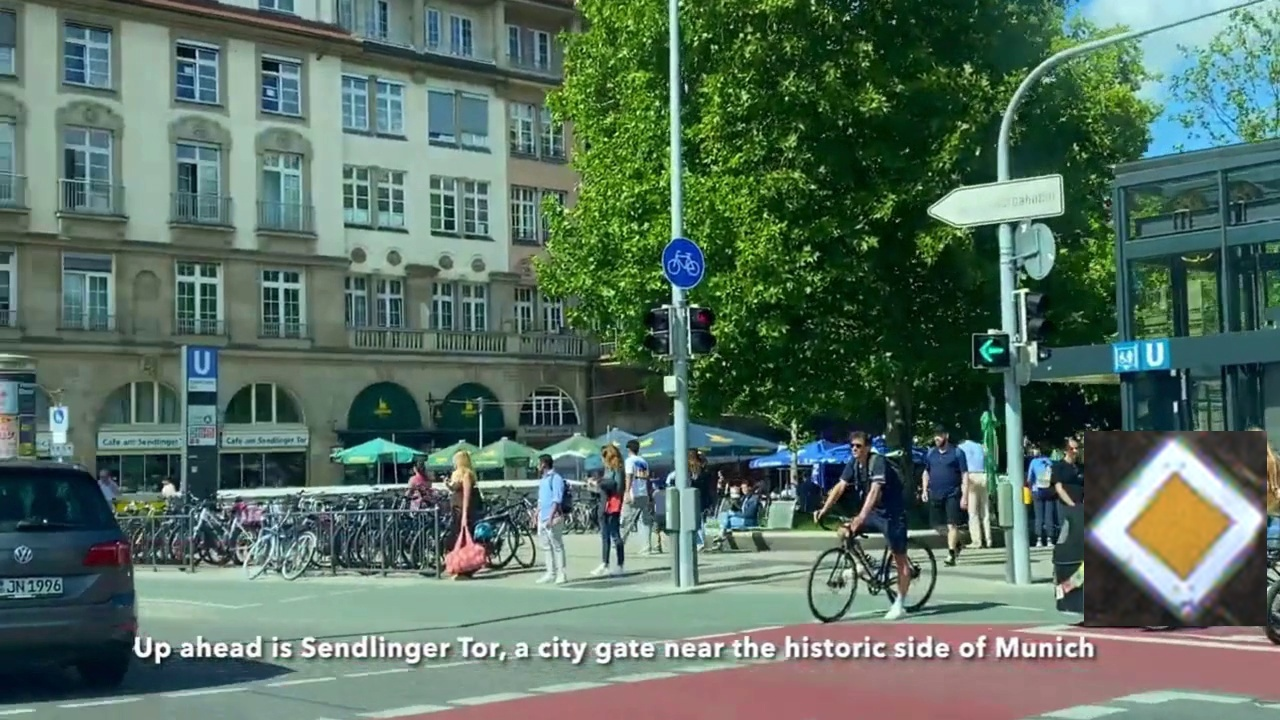Priority road: (1084, 431, 1267, 626)
